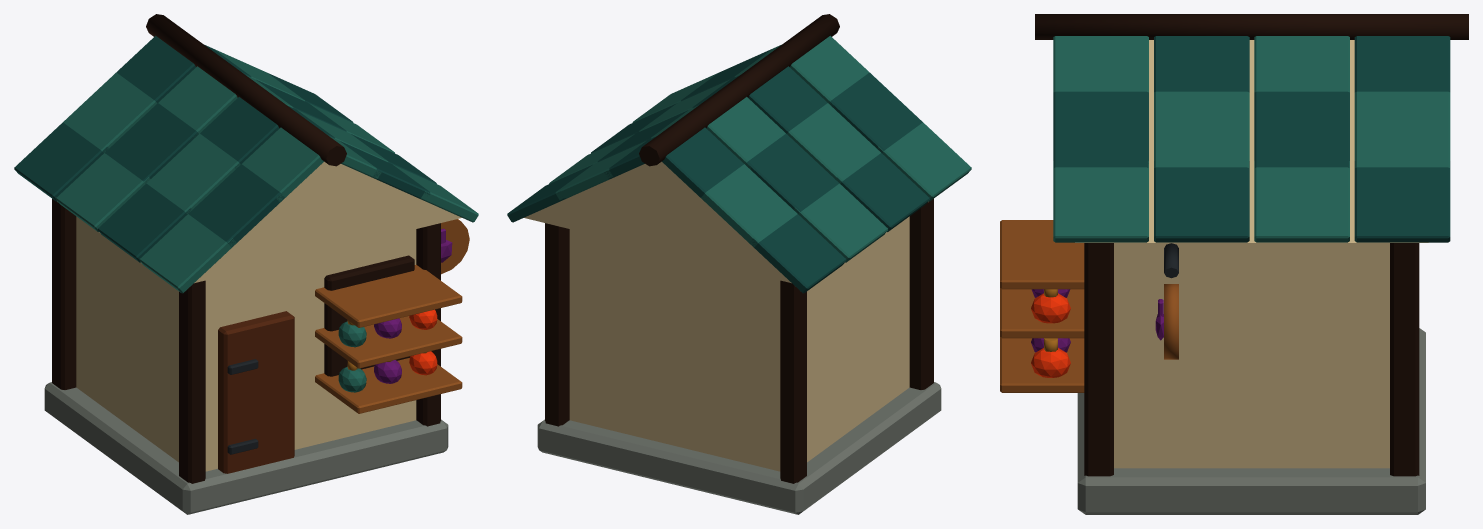
Rendered from alchemy_shop.obj.
3 views of the same model, side by side, from view 1: azimuth 30°, elevation 25°; view 2: azimuth 150°, elevation 25°; view 3: azimuth 270°, elevation 25° (orthographic). The views are drawn at different scales.
Parts seen in each view (by area): view 1: alchemy_shop; view 2: alchemy_shop; view 3: alchemy_shop.
Part boxes in pixels (left/top/right/bottom): alchemy_shop: left=14, top=14, right=478, bottom=514; alchemy_shop: left=507, top=14, right=971, bottom=514; alchemy_shop: left=1000, top=14, right=1468, bottom=514.
Size of the model in its own units: 1 by 1 by 1.
